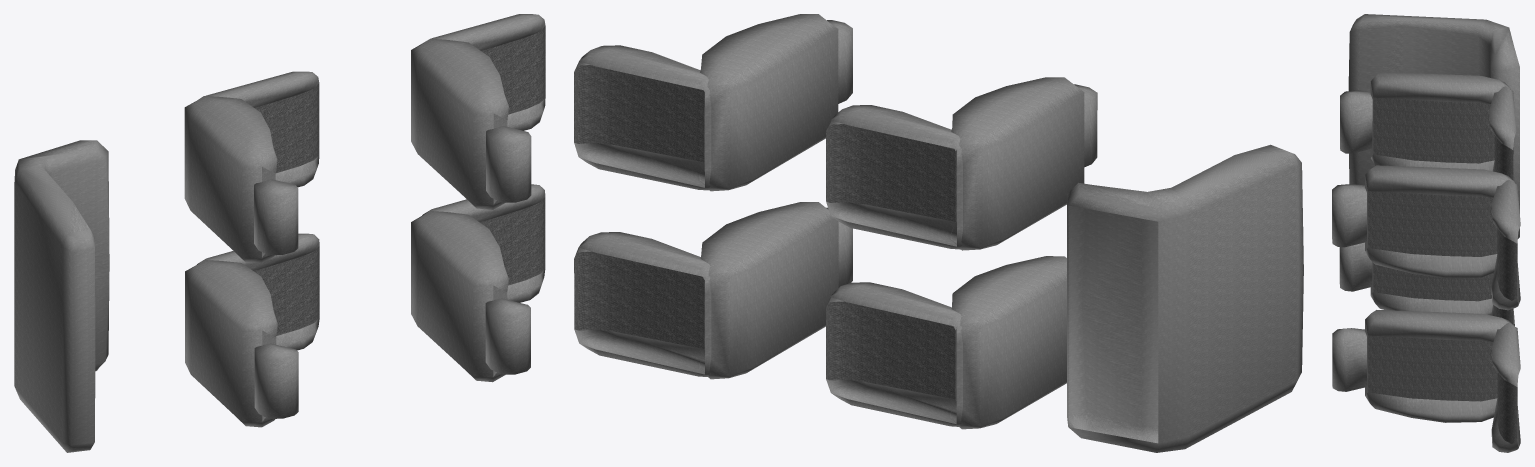
Rendered from seats.obj.
3 renders of one model, left to right at view 1: azimuth 30°, elevation 25°; view 2: azimuth 150°, elevation 25°; view 3: azimuth 270°, elevation 25°, orthographic. The views are drawn at different scales.
Parts seen in each view (by area): view 1: 3_-_Default, light_seats, 4_-_Default; view 2: 3_-_Default, light_seats, 4_-_Default; view 3: 3_-_Default, 4_-_Default, light_seats.
Part boxes in pixels (x1=…): 3_-_Default: x1=184, y1=14, x2=545, y2=427; light_seats: x1=14, y1=140, x2=109, y2=452; 4_-_Default: x1=254, y1=26, x2=545, y2=335; 3_-_Default: x1=574, y1=14, x2=1097, y2=429; light_seats: x1=1067, y1=144, x2=1303, y2=452; 4_-_Default: x1=574, y1=65, x2=956, y2=401; 3_-_Default: x1=1332, y1=72, x2=1520, y2=452; 4_-_Default: x1=1368, y1=97, x2=1517, y2=443; light_seats: x1=1348, y1=14, x2=1519, y2=238.
Size of the model in its own units: 2.79 by 1.34 by 0.9485.
3 materials, 3 textured.
